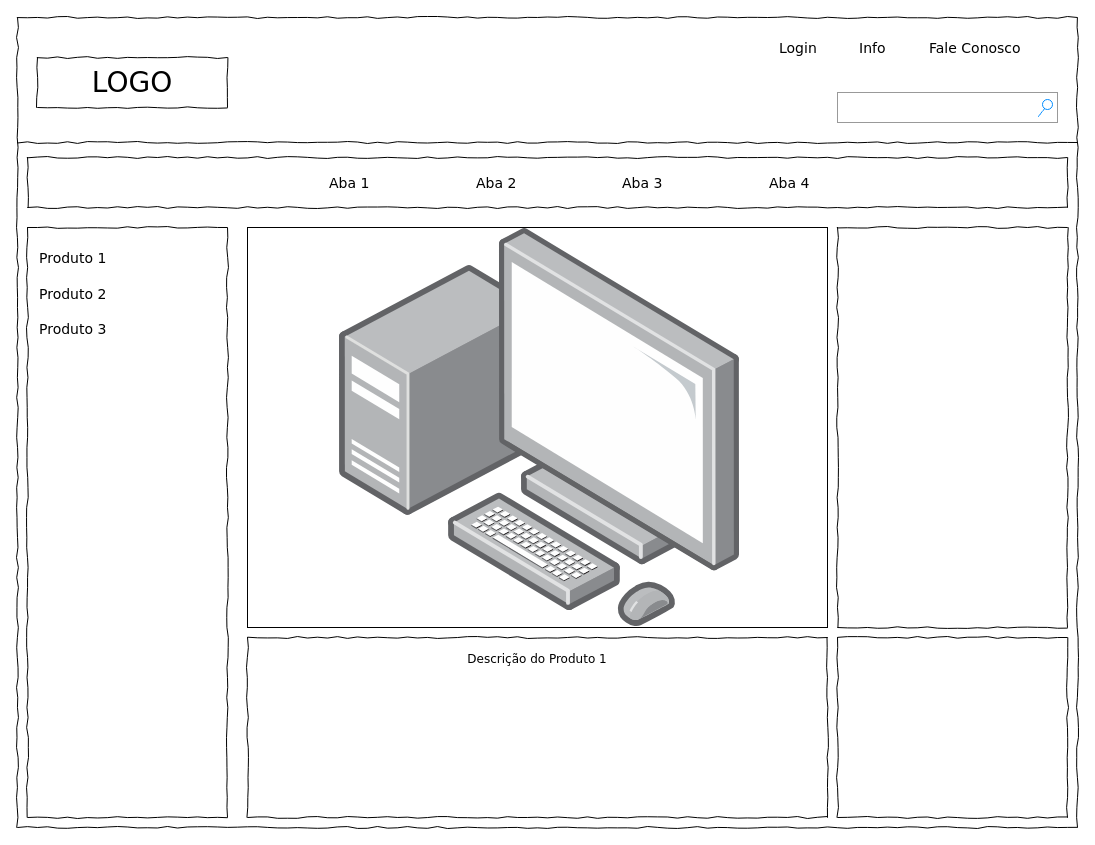
Some shapes in this 1095 by 845 pixel diagram are drawn without their labels. The centre of each missing label's shape, as x and y in pixels:
"External Links" goes at point 952,727.
"Search" goes at point 947,107.
